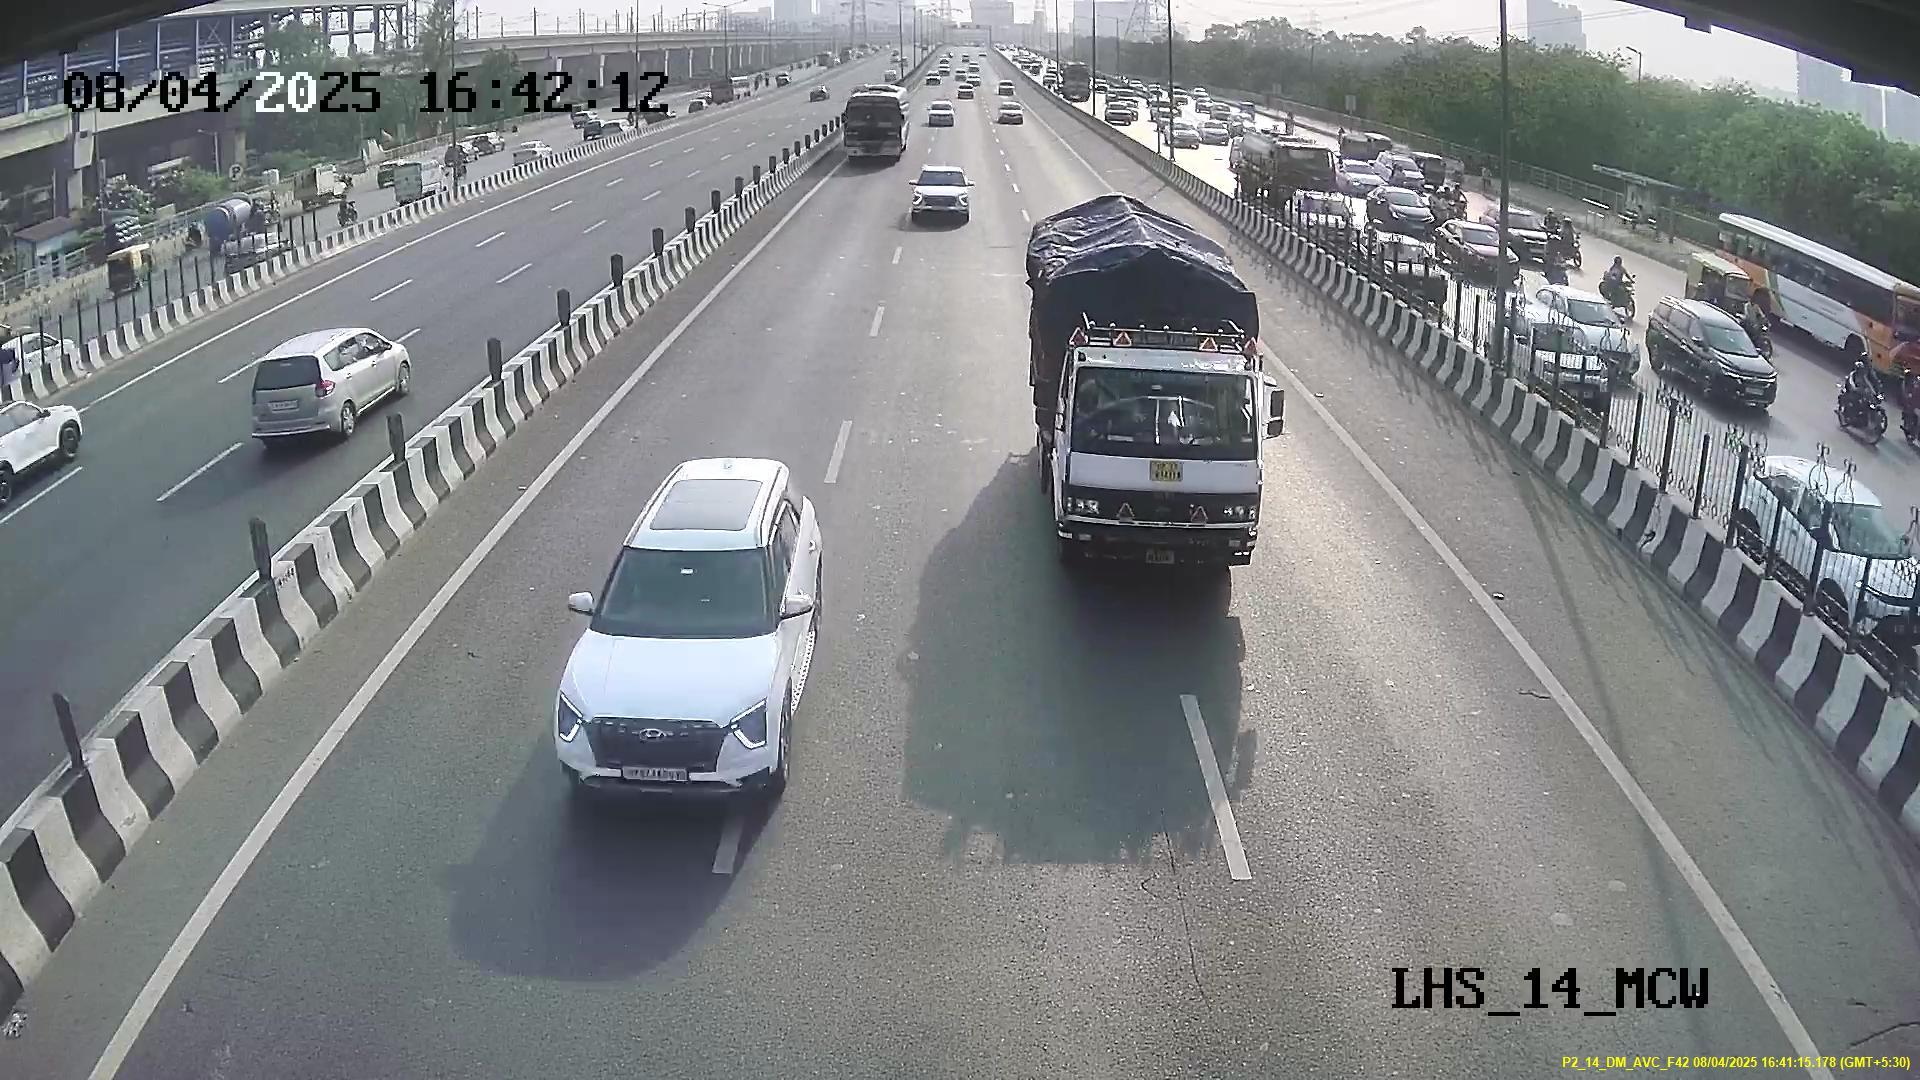car: (547, 509, 812, 808)
lcv: (1060, 342, 1267, 568)
